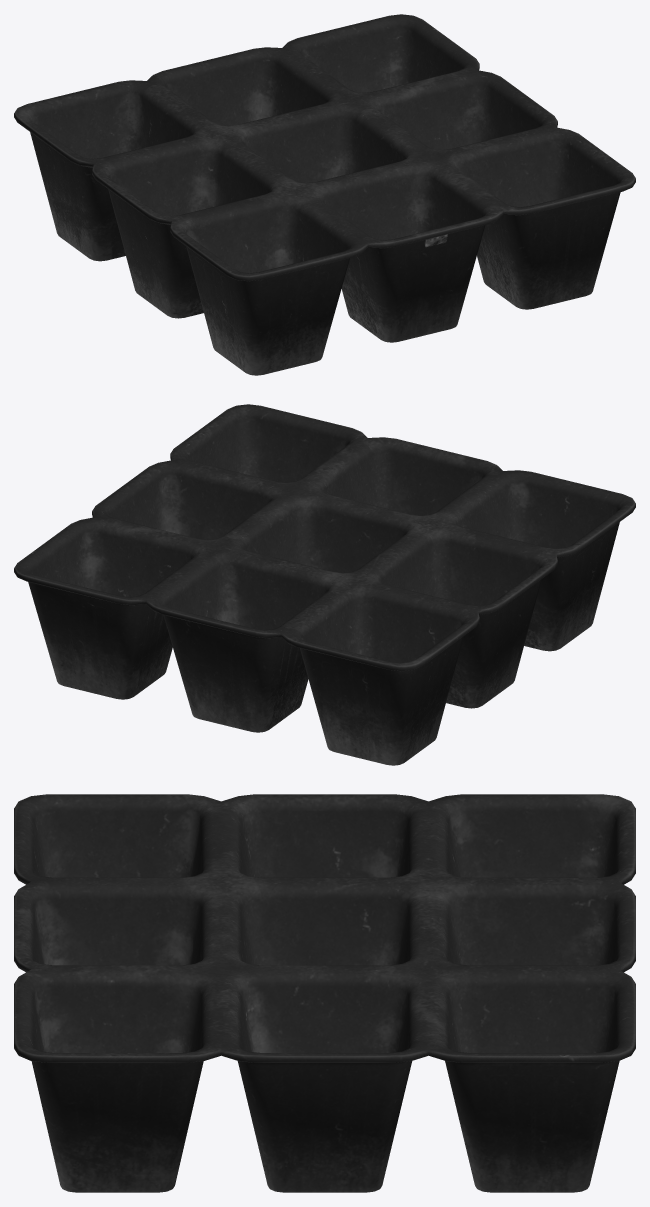
File: seeding_tray_01.glb
3 views of the same model, one above another, from view 1: azimuth 30°, elevation 25°; view 2: azimuth 150°, elevation 25°; view 3: azimuth 270°, elevation 25° (orthographic). The views are drawn at different scales.
Visible parts, largest first — view 1: seeding_tray_01; view 2: seeding_tray_01; view 3: seeding_tray_01.
Part boxes in pixels (box(x1,y1,x2,y2)): seeding_tray_01: box(14, 14, 635, 375); seeding_tray_01: box(14, 404, 635, 765); seeding_tray_01: box(14, 794, 635, 1192).
Bounding box in the file's own units: 0.2202 × 0.0608 × 0.2202.
Materials: 1 (1 with a texture image).
